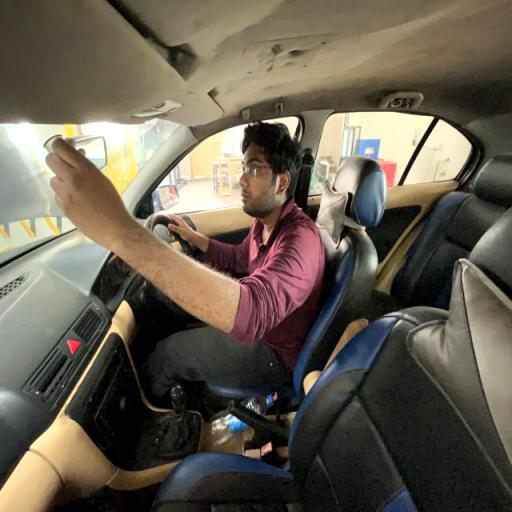Hair Mirror: (45, 122, 328, 360)
